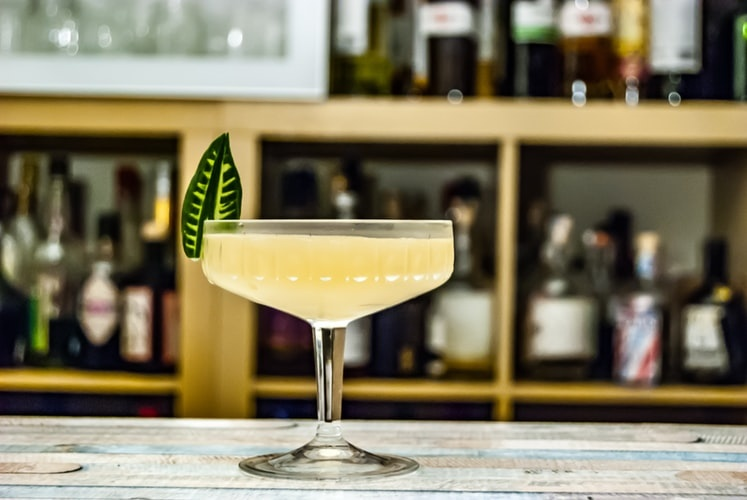whiskey: (183, 216, 453, 481)
